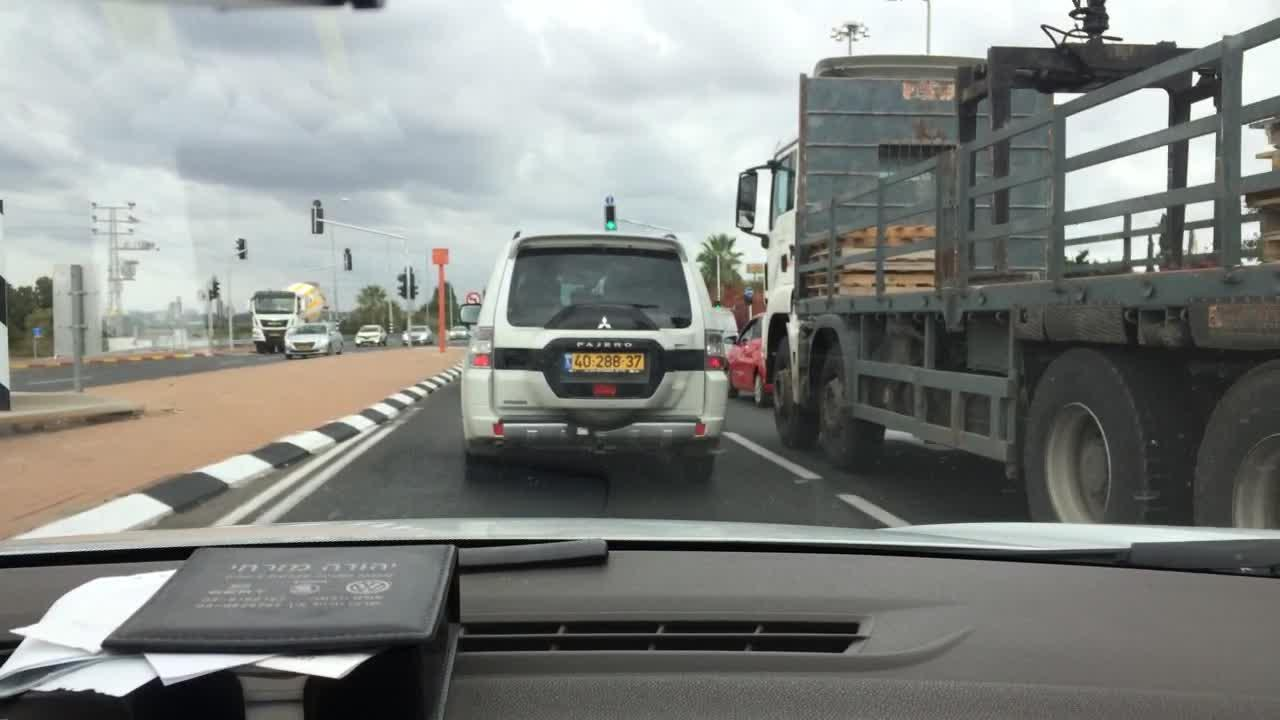Mitsubishi: (592, 309, 615, 337)
